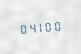four: (27, 21, 35, 34)
one: (36, 20, 44, 33)
zero: (18, 21, 26, 35), (54, 18, 62, 32), (45, 19, 53, 32)
